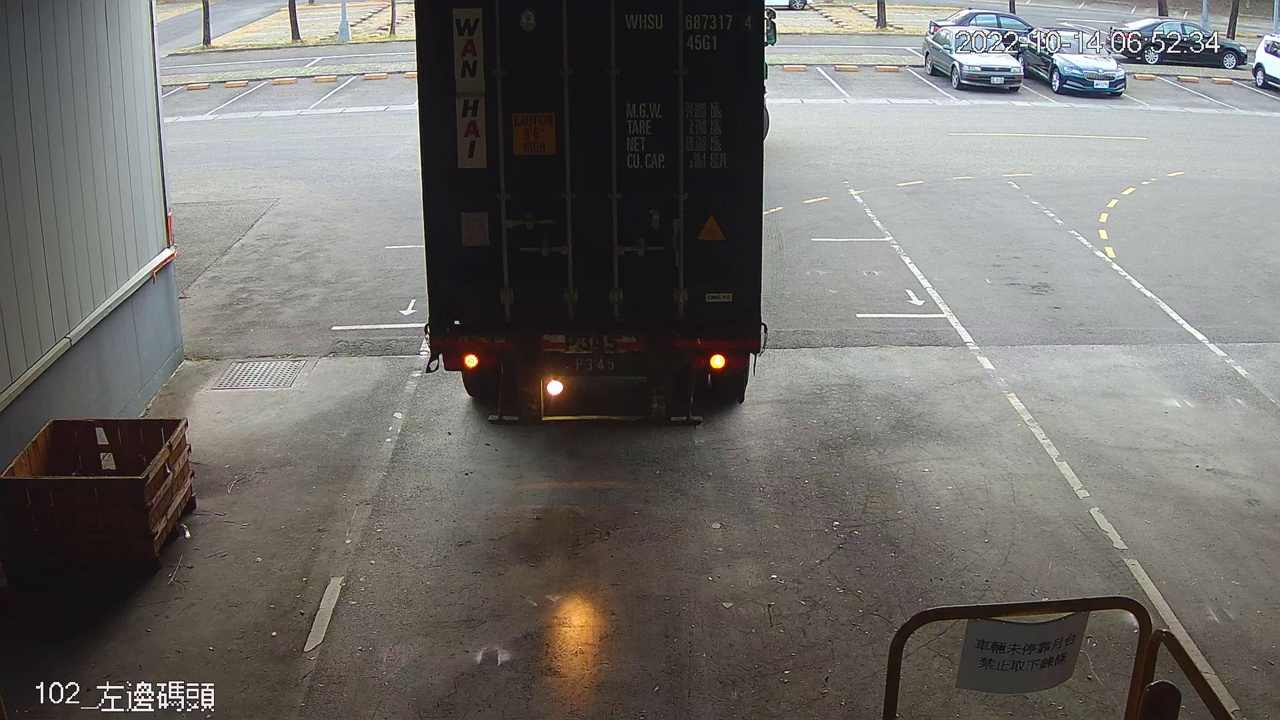container: (620, 5, 758, 54)
